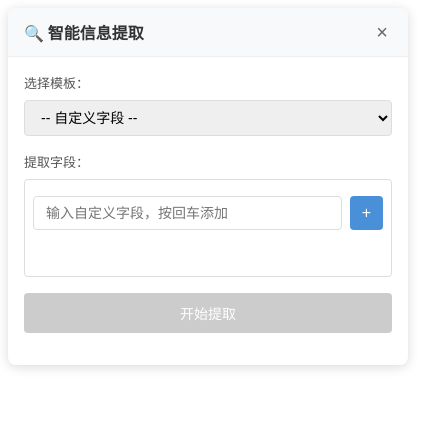
SmartExtractPanel › Error Handling › should display error message on API failure
Step 1. Type "测试" into the field with id "custom-field-input" → x=187, y=213, box [33, 196, 342, 230]
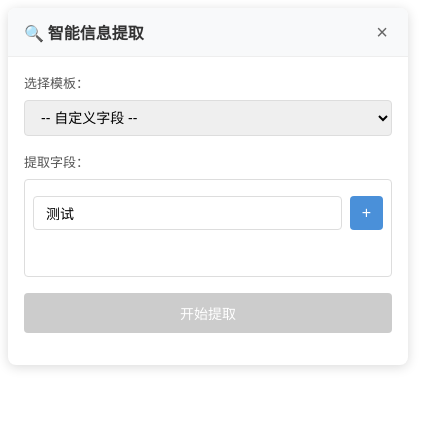
Step 2. Click the button with id "add-field-btn" → x=366, y=213, box [350, 196, 383, 230]
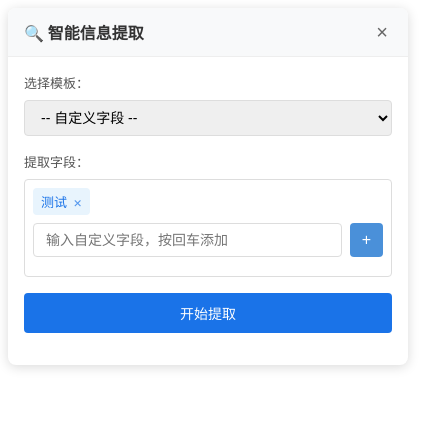
Step 3. Click the button with id "extract-btn" → x=208, y=313, box [24, 293, 392, 333]
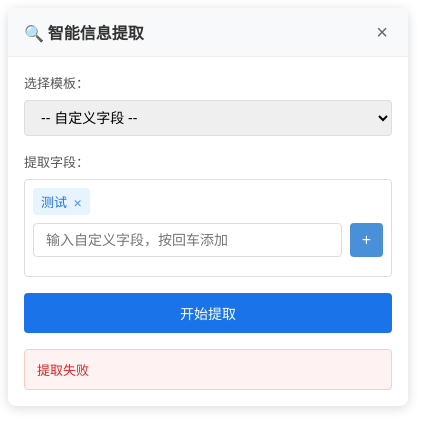
expect the text with id "error-message" reads "提取失败": met, box [37, 362, 89, 378]
